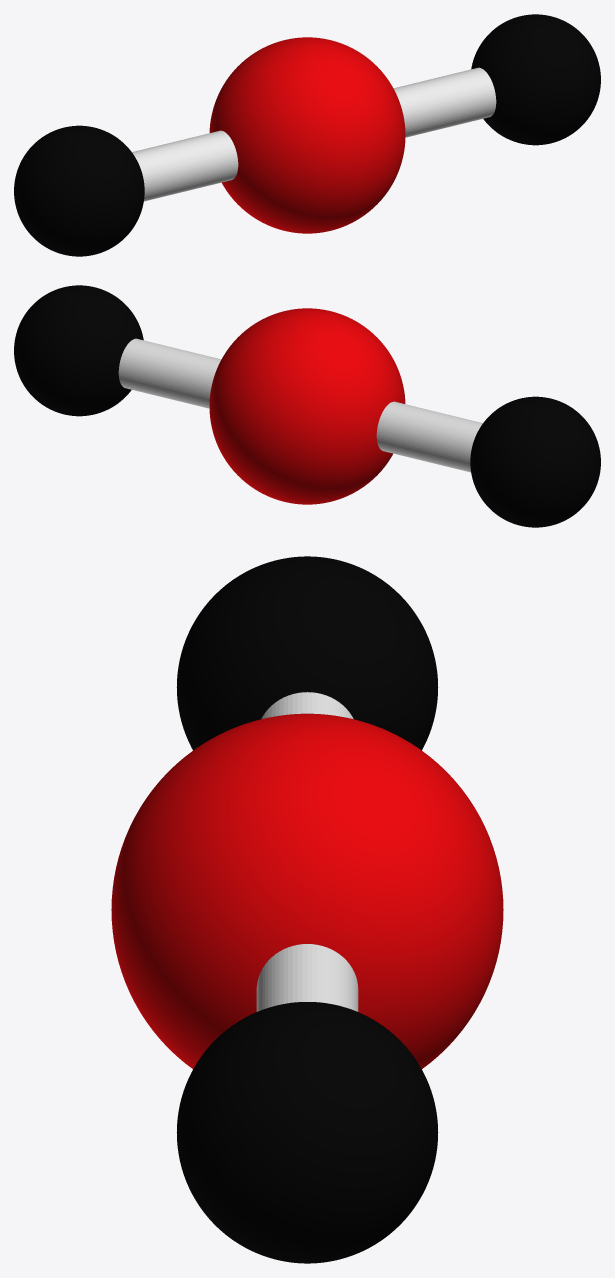
The model's file is linear.glb.
The picture shows the model from 3 angles, top to bottom: view 1: azimuth 30°, elevation 25°; view 2: azimuth 150°, elevation 25°; view 3: azimuth 270°, elevation 25°; orthographic projection. The views are drawn at different scales.
Visible parts, largest first — view 1: Sphere, Sphere.001, Sphere.002, Cylinder; view 2: Sphere, Sphere.001, Sphere.002, Cylinder; view 3: Sphere, Sphere.002, Sphere.001, Cylinder.
Boxes of the visible parts, box(x1,y1,x2,y2) form: Sphere: box(209, 37, 405, 233); Sphere.001: box(14, 125, 144, 256); Sphere.002: box(471, 14, 600, 145); Cylinder: box(132, 67, 496, 201); Sphere: box(209, 308, 405, 504); Sphere.001: box(470, 396, 600, 527); Sphere.002: box(14, 285, 143, 416); Cylinder: box(118, 338, 482, 472); Sphere: box(111, 713, 503, 1068); Sphere.002: box(176, 1002, 438, 1263); Sphere.001: box(176, 556, 438, 750); Cylinder: box(256, 692, 358, 1011).
Size of the model in its own units: 9.98 by 3 by 2.98.
